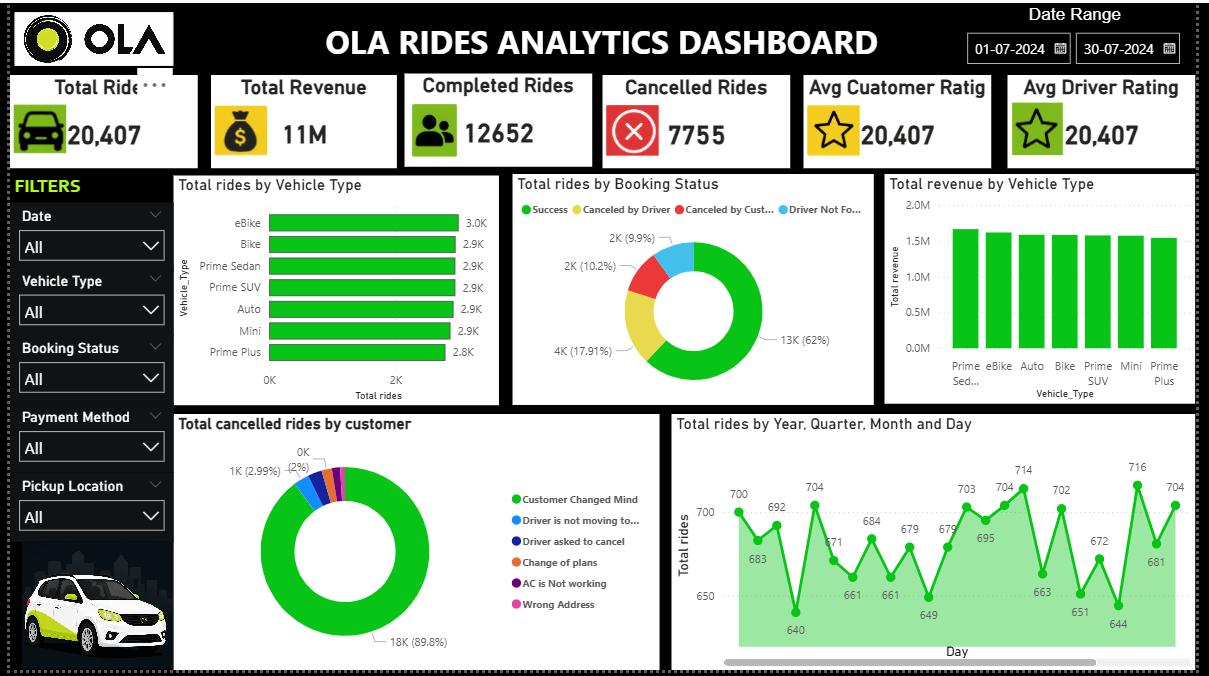

This screenshot's page, from the dashboard's own definition file:
{"tool":"powerbi","page":{"name":"Page 1","canvas":[1280,720],"ordinal":0},"visuals":[{"type":"barChart","title":"Total rides by Vehicle Type","fields":{"Y":["Bookings.Total rides"],"Category":["Bookings.Vehicle_Type"]},"box":[176.5,186.2,351.4,247.7],"z":0},{"type":"columnChart","title":"Total revenue by Vehicle Type","fields":{"Category":["Bookings.Vehicle_Type"],"Y":["Bookings.Total revenue"]},"box":[944,184.6,335.2,247.7],"z":1000},{"type":"donutChart","title":"Total rides by Booking Status","fields":{"Category":["Bookings.Booking_Status"],"Y":["Bookings.Total rides"]},"box":[542.4,184.6,390.2,249.4],"z":2000},{"type":"lineChart","fields":{"Y":["Bookings.Total rides"],"Category":["Bookings.Date.Variation.Date Hierarchy.Year","Bookings.Date.Variation.Date Hierarchy.Quarter","Bookings.Date.Variation.Date Hierarchy.Month","Bookings.Date.Variation.Date Hierarchy.Day"]},"box":[714.1,443.7,565.1,276.9],"z":3000},{"type":"donutChart","title":"Total cancelled rides by customer","fields":{"Category":["Bookings.canceled_by_customer"],"Y":["Bookings.Total cancelled rides"]},"box":[176.5,443.7,524.6,276.9],"z":4000},{"type":"card","title":"Total Rides","fields":{"Values":["Bookings.Total rides"]},"box":[0,77.7,202.4,100.4],"z":5000},{"type":"actionButton","box":[757.8,95.5,87.4,64.8],"z":6000},{"type":"actionButton","box":[0,95.5,64.8,81],"z":7000},{"type":"card","title":"Total Revenue","fields":{"Values":["Bookings.Total revenue"]},"box":[217,77.7,200.8,100.4],"z":8000},{"type":"actionButton","box":[217,97.2,64.8,81],"z":9000},{"type":"card","title":"Completed Rides","fields":{"Values":["Bookings.complete rides"]},"box":[425.9,76.1,202.4,100.4],"z":10000},{"type":"card","title":"Cancelled Rides","fields":{"Values":["Bookings.Canceled rides"]},"box":[639.6,77.7,202.4,100.4],"z":11000},{"type":"card","title":"Avg Cuatomer Rating","fields":{"Values":["Sum(Bookings.Customer_Rating)"]},"box":[856.6,77.7,202.4,100.4],"z":12000},{"type":"card","title":"Avg Driver Rating","fields":{"Values":["Sum(Bookings.Driver_Ratings)"]},"box":[1076.8,77.7,202.4,100.4],"z":13000},{"type":"actionButton","box":[425.9,97.2,64.8,81],"z":14000},{"type":"actionButton","box":[639.6,97.2,64.8,81],"z":15000},{"type":"actionButton","box":[856.6,97.2,64.8,81],"z":16000},{"type":"actionButton","box":[1076.8,95.5,64.8,81],"z":17000},{"type":"slicer","title":"Date Range","fields":{"Values":["Bookings.Date"]},"box":[1020.1,1.6,259.1,76.1],"z":18000},{"type":"shape","title":"FILTERS","box":[4.9,184.6,118.2,30.8],"z":19000},{"type":"slicer","fields":{"Values":["Bookings.Date"]},"box":[0,215.4,176.5,74.5],"z":20000},{"type":"slicer","title":"Vehicle Type","fields":{"Values":["Bookings.Vehicle_Type"]},"box":[0,285,176.5,74.5],"z":21000},{"type":"slicer","fields":{"Values":["Bookings.Booking_Status"]},"box":[0,357.8,176.5,74.5],"z":22000},{"type":"slicer","fields":{"Values":["Bookings.Payment_Method"]},"box":[0,432.3,176.5,74.5],"z":23000},{"type":"slicer","fields":{"Values":["Bookings.Pickup_Location"]},"box":[0,506.8,176.5,74.5],"z":24000},{"type":"image","box":[4.9,9.7,171.6,58.3],"z":25000},{"type":"image","box":[13,581.3,163.5,137.6],"z":26000},{"type":"shape","title":"OLA RIDES ANALYTICS DASHBOARD","box":[312.5,17.8,652.5,43.7],"z":27000}]}

Visuals, with their boxes in screenshot pixels (x1, y1, x2, y2), scaled from the page's 1280x720 canvas onto the 1209x676 screenshot:
"Total rides by Vehicle Type" barChart: x1=167 y1=175 x2=499 y2=407
"Total revenue by Vehicle Type" columnChart: x1=892 y1=173 x2=1208 y2=406
"Total rides by Booking Status" donutChart: x1=512 y1=173 x2=881 y2=407
lineChart - Bookings.Total rides x Bookings.Date.Variation.Date Hierarchy.Year: x1=674 y1=417 x2=1208 y2=675
"Total cancelled rides by customer" donutChart: x1=167 y1=417 x2=662 y2=675
"Total Rides" card: x1=0 y1=73 x2=191 y2=167
actionButton: x1=716 y1=90 x2=798 y2=151
actionButton: x1=0 y1=90 x2=61 y2=166
"Total Revenue" card: x1=205 y1=73 x2=395 y2=167
actionButton: x1=205 y1=91 x2=266 y2=167
"Completed Rides" card: x1=402 y1=71 x2=593 y2=166
"Cancelled Rides" card: x1=604 y1=73 x2=795 y2=167
"Avg Cuatomer Rating" card: x1=809 y1=73 x2=1000 y2=167
"Avg Driver Rating" card: x1=1017 y1=73 x2=1208 y2=167
actionButton: x1=402 y1=91 x2=463 y2=167
actionButton: x1=604 y1=91 x2=665 y2=167
actionButton: x1=809 y1=91 x2=870 y2=167
actionButton: x1=1017 y1=90 x2=1078 y2=166
"Date Range" slicer: x1=964 y1=2 x2=1208 y2=73
"FILTERS" shape: x1=5 y1=173 x2=116 y2=202
slicer - Bookings.Date: x1=0 y1=202 x2=167 y2=272
"Vehicle Type" slicer: x1=0 y1=268 x2=167 y2=338
slicer - Bookings.Booking_Status: x1=0 y1=336 x2=167 y2=406
slicer - Bookings.Payment_Method: x1=0 y1=406 x2=167 y2=476
slicer - Bookings.Pickup_Location: x1=0 y1=476 x2=167 y2=546
image: x1=5 y1=9 x2=167 y2=64
image: x1=12 y1=546 x2=167 y2=675
"OLA RIDES ANALYTICS DASHBOARD" shape: x1=295 y1=17 x2=911 y2=58
